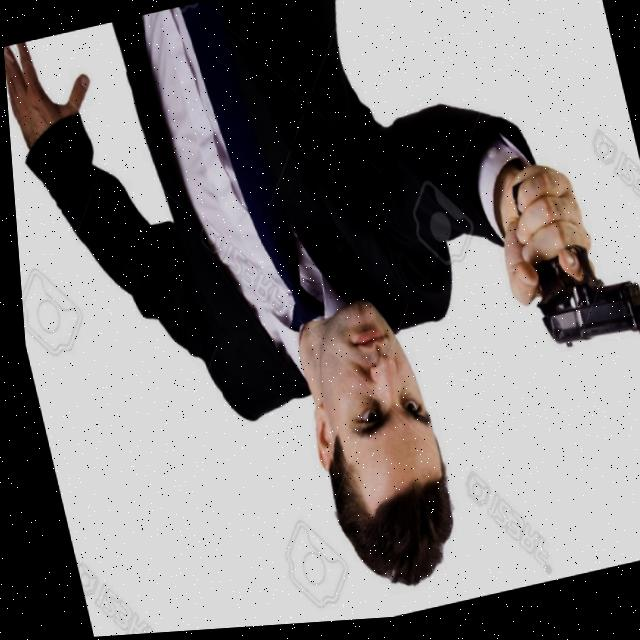pistol: (518, 238, 640, 368)
